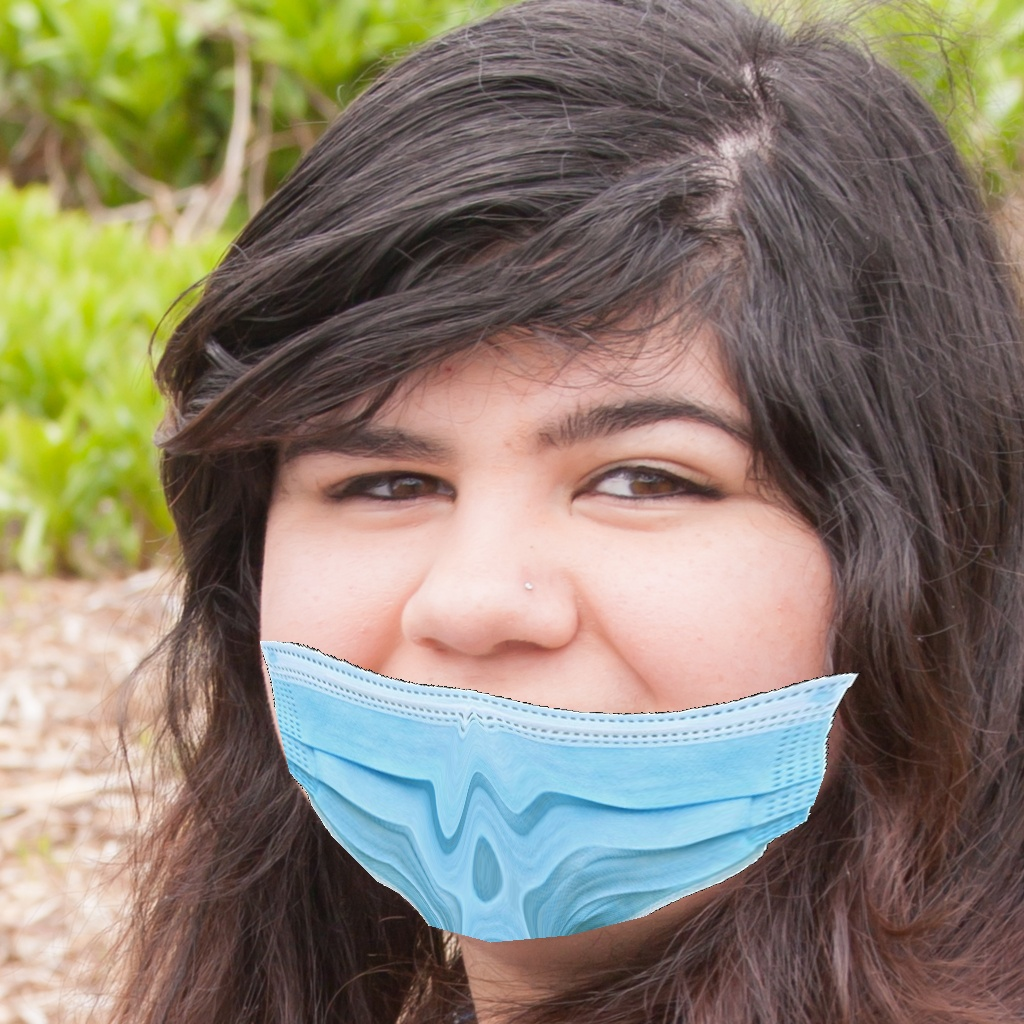mask_weared_incorrect: (237, 394, 903, 945)
